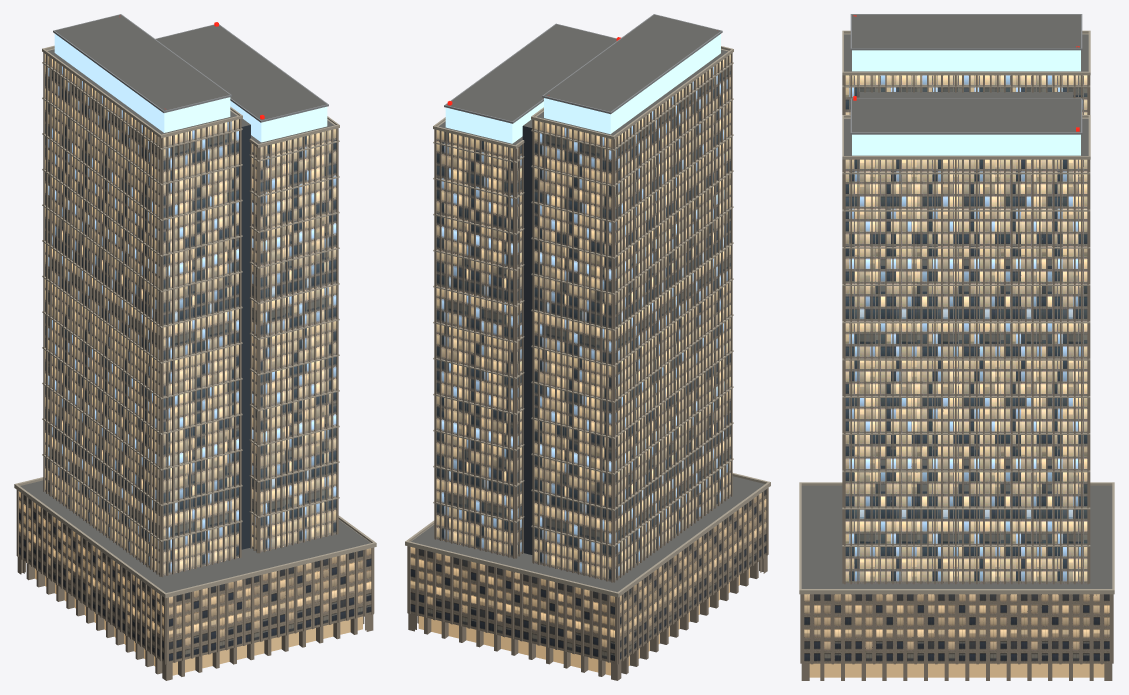
The model's file is shin_marunouchi_building.glb.
3 renders of one model, left to right at view 1: azimuth 30°, elevation 25°; view 2: azimuth 150°, elevation 25°; view 3: azimuth 270°, elevation 25°, orthographic. The views are drawn at different scales.
Parts seen in each view (by area): view 1: shin_marunouchi_building; view 2: shin_marunouchi_building; view 3: shin_marunouchi_building.
Part boxes in pixels (<box>): shin_marunouchi_building: <box>14,14,376,680</box>; shin_marunouchi_building: <box>405,14,770,680</box>; shin_marunouchi_building: <box>799,14,1114,680</box>.
Bounding box in the file's own units: 80 × 198 × 99.
3 materials, 3 textured.
